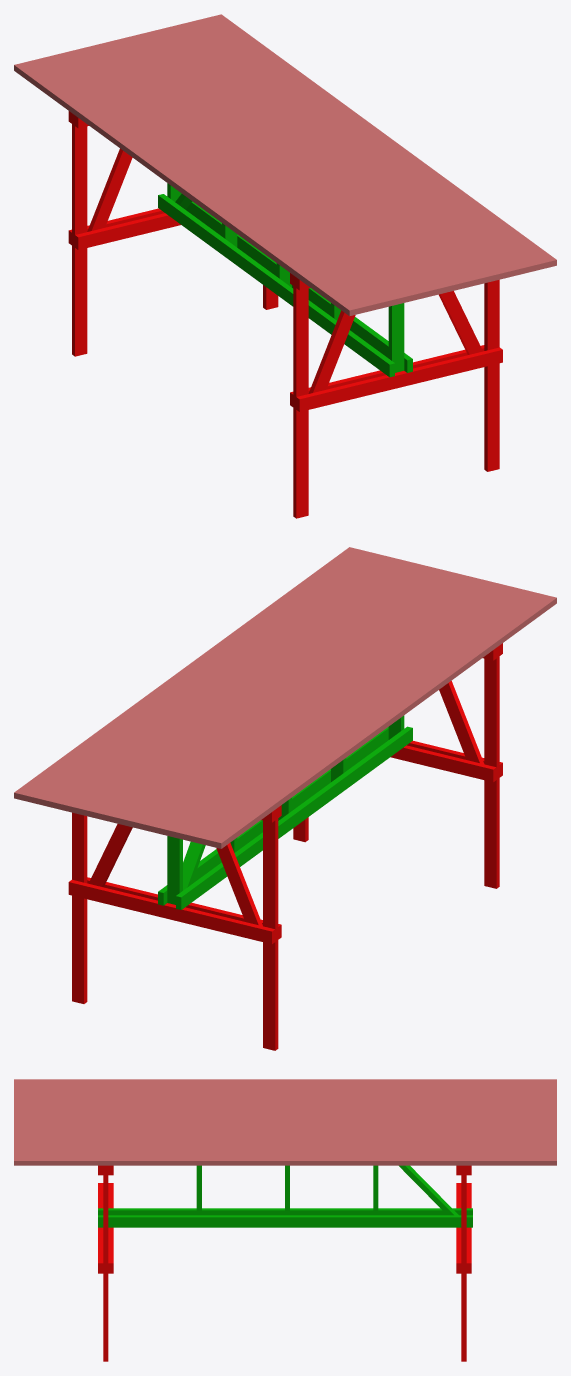
File: result.glb
3 views of the same model, one above another, from view 1: azimuth 30°, elevation 25°; view 2: azimuth 150°, elevation 25°; view 3: azimuth 270°, elevation 25° (orthographic). The views are drawn at different scales.
Parts seen in each view (by area): view 1: 3bab9e0b-4225-4349-bb0d-b086695a763f__Box, c703ebef-c0ff-4e46-85f8-bf6ac1b7b0fd__undefined, e36f760b-116a-478c-ad8a-f20a75113341__undefined, 511d69fd-4a00-4c6f-933a-1381dc60b899__undefined, dfefb0f5-9e2e-4fde-a729-e49d273e53e2__undefined, 6c77eb27-6bd5-4bfc-8618-9ac416c4b971__undefined, 7b6a481a-411c-4099-877b-8b535b306797__undefined, f34966b8-cfad-4fa9-931b-0b22c883fd51__undefined, ac6a56dd-1280-4d3f-afd0-47cc4f242bc9__undefined, cb55f243-dea2-4349-9abd-4eb4c7af6550__undefined, 9a03b9fe-3d1e-4e63-bc91-c44cfe5d315e__undefined, 8e370666-32d1-4ef0-a1f8-bec4170aecd9__undefined (+17 smaller); view 2: 3bab9e0b-4225-4349-bb0d-b086695a763f__Box, 8e370666-32d1-4ef0-a1f8-bec4170aecd9__undefined, 787801a8-69c5-4650-a41a-8748570a6bf6__undefined, cb55f243-dea2-4349-9abd-4eb4c7af6550__undefined, f34966b8-cfad-4fa9-931b-0b22c883fd51__undefined, dfefb0f5-9e2e-4fde-a729-e49d273e53e2__undefined, 7b6a481a-411c-4099-877b-8b535b306797__undefined, c703ebef-c0ff-4e46-85f8-bf6ac1b7b0fd__undefined, e36f760b-116a-478c-ad8a-f20a75113341__undefined, ac6a56dd-1280-4d3f-afd0-47cc4f242bc9__undefined, 6c77eb27-6bd5-4bfc-8618-9ac416c4b971__undefined, 09adaf58-9703-41c8-9eca-b6f6326cc946__undefined (+18 smaller); view 3: dfefb0f5-9e2e-4fde-a729-e49d273e53e2__undefined, 11a3f60d-402e-4ae3-bacb-bab718f66a48__strutH, 81ead423-dbc8-40b4-aefb-596c187582ea__undefined, 6c77eb27-6bd5-4bfc-8618-9ac416c4b971__undefined, 9a03b9fe-3d1e-4e63-bc91-c44cfe5d315e__undefined, c703ebef-c0ff-4e46-85f8-bf6ac1b7b0fd__undefined, e36f760b-116a-478c-ad8a-f20a75113341__undefined, 09adaf58-9703-41c8-9eca-b6f6326cc946__undefined, f34966b8-cfad-4fa9-931b-0b22c883fd51__undefined, ac6a56dd-1280-4d3f-afd0-47cc4f242bc9__undefined, 511d69fd-4a00-4c6f-933a-1381dc60b899__undefined, 2a116698-5d40-44bc-ab54-0746404d6c14__strutH (+14 smaller).
Part boxes in pixels (x1,y1,x2,y2): 3bab9e0b-4225-4349-bb0d-b086695a763f__Box: (14, 62, 361, 316); c703ebef-c0ff-4e46-85f8-bf6ac1b7b0fd__undefined: (112, 38, 459, 292); e36f760b-116a-478c-ad8a-f20a75113341__undefined: (124, 35, 471, 289); 511d69fd-4a00-4c6f-933a-1381dc60b899__undefined: (197, 17, 544, 271); dfefb0f5-9e2e-4fde-a729-e49d273e53e2__undefined: (209, 14, 556, 268); 6c77eb27-6bd5-4bfc-8618-9ac416c4b971__undefined: (51, 53, 398, 307); 7b6a481a-411c-4099-877b-8b535b306797__undefined: (75, 47, 422, 301); f34966b8-cfad-4fa9-931b-0b22c883fd51__undefined: (173, 23, 520, 277); ac6a56dd-1280-4d3f-afd0-47cc4f242bc9__undefined: (185, 20, 532, 274); cb55f243-dea2-4349-9abd-4eb4c7af6550__undefined: (26, 59, 373, 312); 9a03b9fe-3d1e-4e63-bc91-c44cfe5d315e__undefined: (63, 50, 410, 304); 8e370666-32d1-4ef0-a1f8-bec4170aecd9__undefined: (87, 44, 434, 298); 3bab9e0b-4225-4349-bb0d-b086695a763f__Box: (209, 595, 556, 848); 8e370666-32d1-4ef0-a1f8-bec4170aecd9__undefined: (136, 577, 483, 830); 787801a8-69c5-4650-a41a-8748570a6bf6__undefined: (62, 559, 409, 813); cb55f243-dea2-4349-9abd-4eb4c7af6550__undefined: (197, 591, 544, 845); f34966b8-cfad-4fa9-931b-0b22c883fd51__undefined: (50, 556, 397, 810); dfefb0f5-9e2e-4fde-a729-e49d273e53e2__undefined: (14, 547, 361, 801); 7b6a481a-411c-4099-877b-8b535b306797__undefined: (148, 580, 495, 833); c703ebef-c0ff-4e46-85f8-bf6ac1b7b0fd__undefined: (111, 571, 458, 824); e36f760b-116a-478c-ad8a-f20a75113341__undefined: (99, 568, 446, 821); ac6a56dd-1280-4d3f-afd0-47cc4f242bc9__undefined: (38, 553, 385, 807); 6c77eb27-6bd5-4bfc-8618-9ac416c4b971__undefined: (172, 586, 519, 839); 09adaf58-9703-41c8-9eca-b6f6326cc946__undefined: (87, 565, 434, 818); dfefb0f5-9e2e-4fde-a729-e49d273e53e2__undefined: (14, 1156, 556, 1165); 11a3f60d-402e-4ae3-bacb-bab718f66a48__strutH: (98, 1215, 472, 1227); 81ead423-dbc8-40b4-aefb-596c187582ea__undefined: (14, 1088, 556, 1093); 6c77eb27-6bd5-4bfc-8618-9ac416c4b971__undefined: (14, 1093, 556, 1098); 9a03b9fe-3d1e-4e63-bc91-c44cfe5d315e__undefined: (14, 1098, 556, 1103); c703ebef-c0ff-4e46-85f8-bf6ac1b7b0fd__undefined: (14, 1117, 556, 1122); e36f760b-116a-478c-ad8a-f20a75113341__undefined: (14, 1122, 556, 1127); 09adaf58-9703-41c8-9eca-b6f6326cc946__undefined: (14, 1127, 556, 1132); f34966b8-cfad-4fa9-931b-0b22c883fd51__undefined: (14, 1141, 556, 1146); ac6a56dd-1280-4d3f-afd0-47cc4f242bc9__undefined: (14, 1146, 556, 1151); 511d69fd-4a00-4c6f-933a-1381dc60b899__undefined: (14, 1151, 556, 1156); 2a116698-5d40-44bc-ab54-0746404d6c14__strutH: (98, 1208, 472, 1215).
Bounding box in the file's own units: 714 × 819 × 2000.
